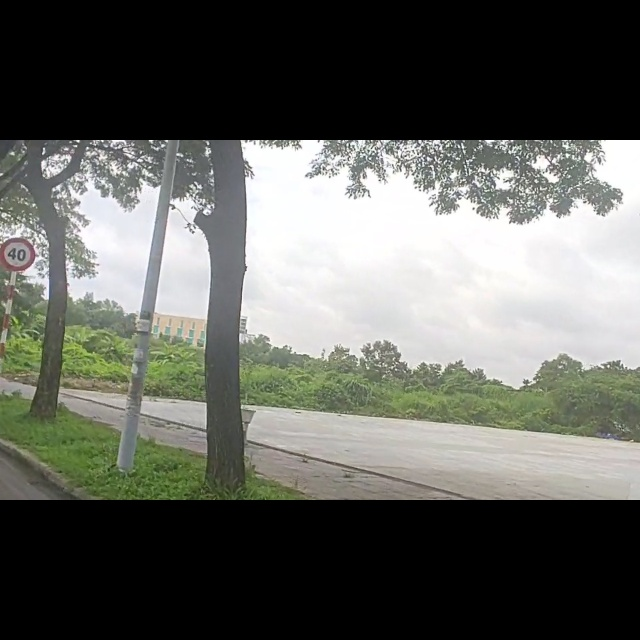Tốc độ tối đa cho phép 40km/h: (1, 237, 38, 273)
